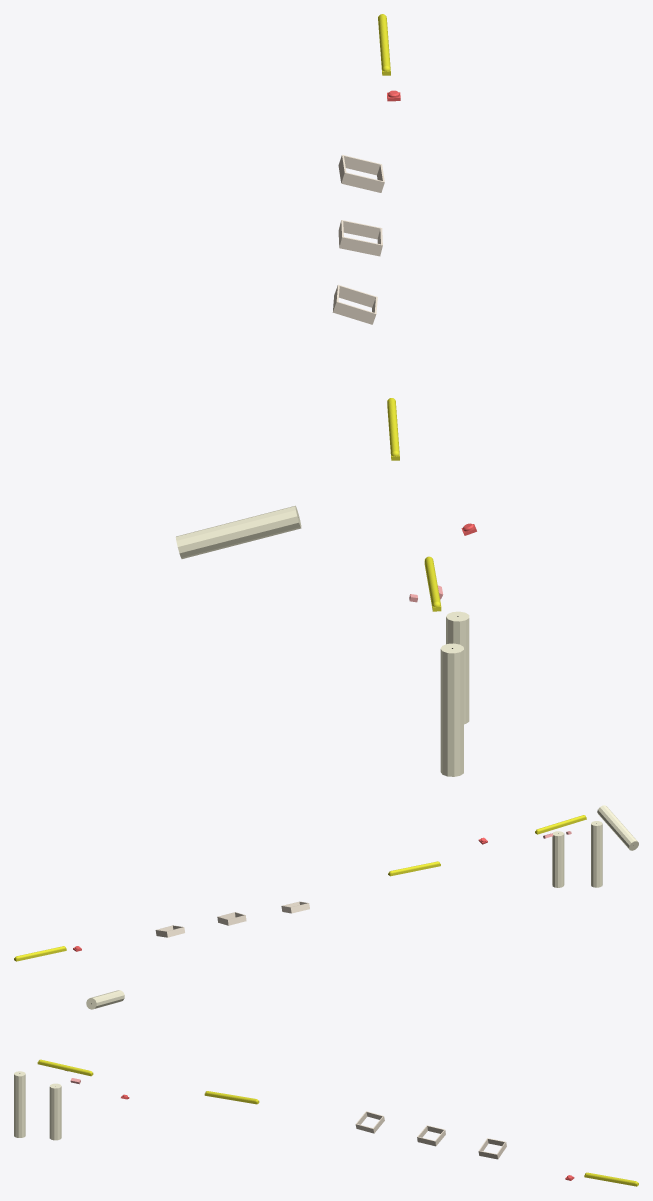
Rendered from tile_68.glb.
The picture shows the model from 3 angles, top to bottom: view 1: azimuth 30°, elevation 25°; view 2: azimuth 150°, elevation 25°; view 3: azimuth 270°, elevation 25°; orthographic projection. The views are drawn at different scales.
Size of the model in its own units: 8.84 by 2.7 by 13.08.
